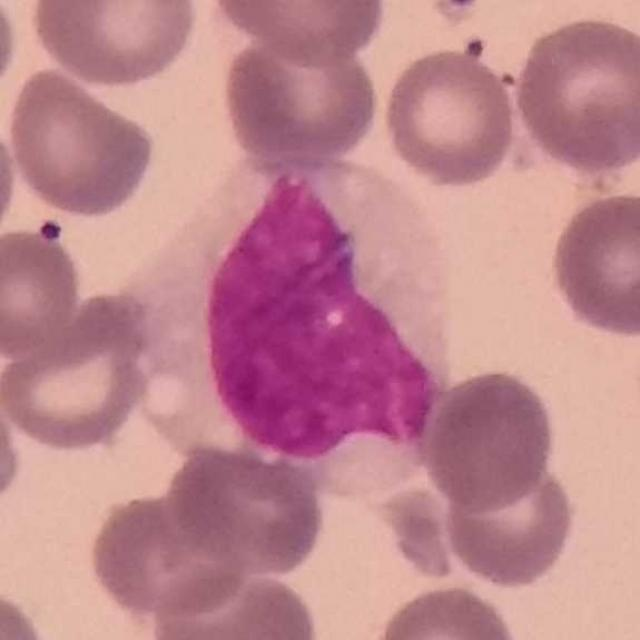mono: (112, 157, 457, 505)
